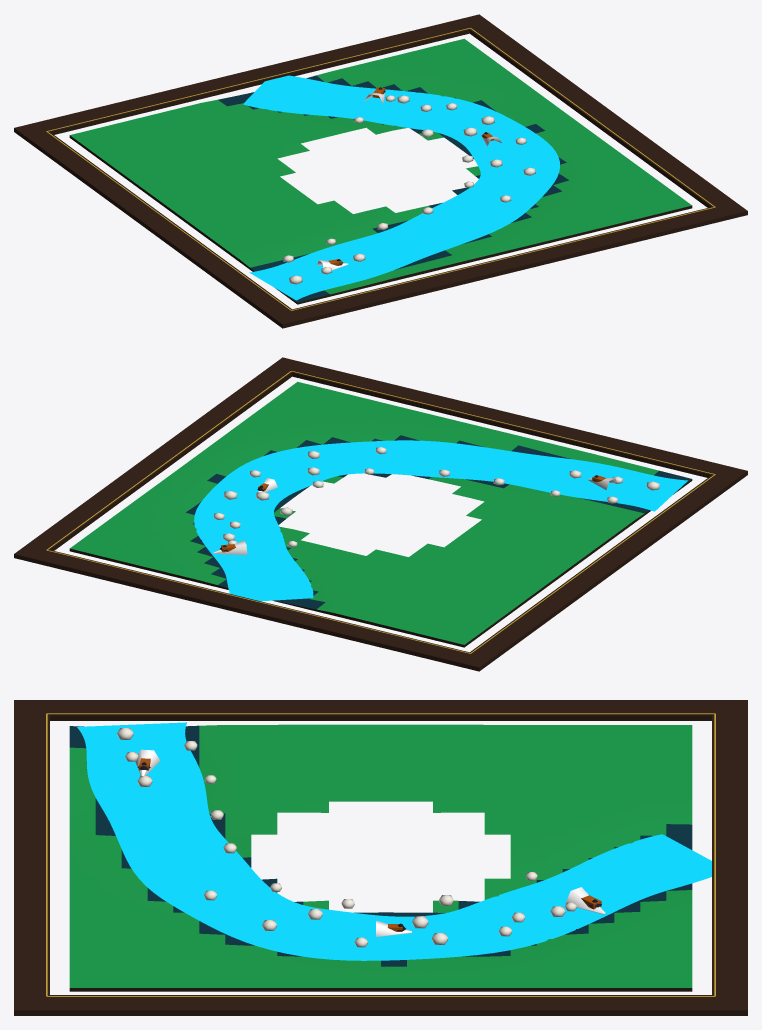
The model's file is board_terrain_base.glb.
3 renders of one model, top to bottom at view 1: azimuth 30°, elevation 25°; view 2: azimuth 150°, elevation 25°; view 3: azimuth 270°, elevation 25°, orthographic. The views are drawn at different scales.
Parts seen in each view (by area): view 1: Board_Terrain_Base; view 2: Board_Terrain_Base; view 3: Board_Terrain_Base.
Part boxes in pixels (x1,y1,x2,y2): Board_Terrain_Base: (14,14,747,328); Board_Terrain_Base: (14,357,747,671); Board_Terrain_Base: (14,700,747,1015).
Bounding box in the file's own units: 11.2 × 0.3811 × 11.2.
